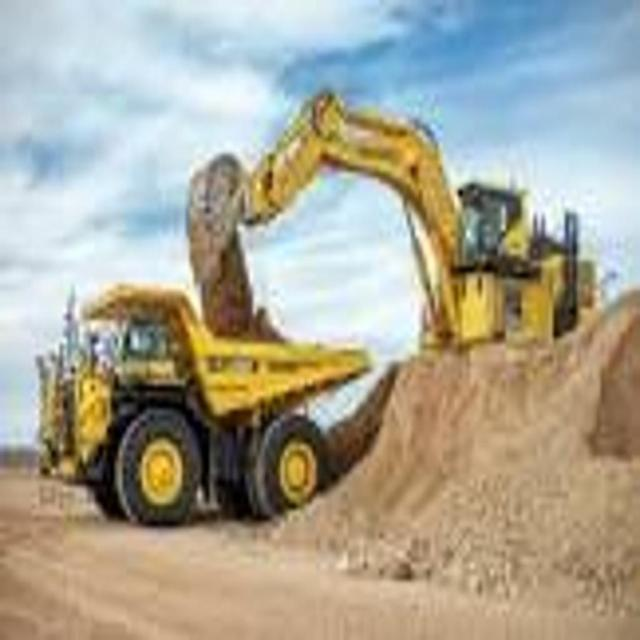dump_truck: (33, 278, 373, 520)
